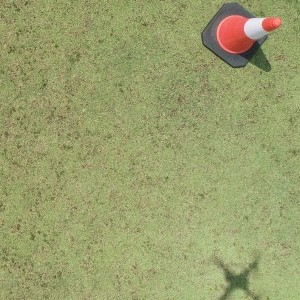traffic cone: (201, 2, 280, 68)
